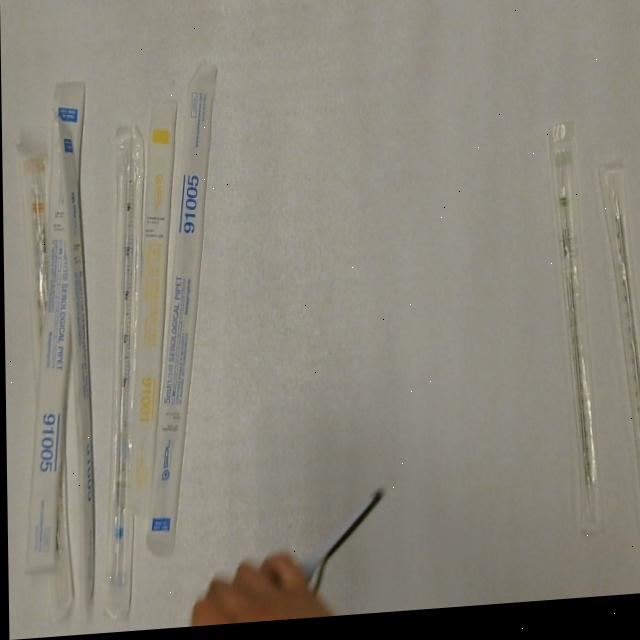Serelogical Pipet 1 mL: (118, 100, 184, 523)
Serelogical Pipet 10 mL: (16, 136, 56, 393)
Serelogical Pipet 2 mL: (545, 124, 607, 553)
Serelogical Pipet 5 mL: (136, 62, 226, 560), (15, 74, 93, 577), (94, 125, 152, 622), (53, 103, 95, 618)
Single Channel Pipettor: (279, 489, 389, 600)
